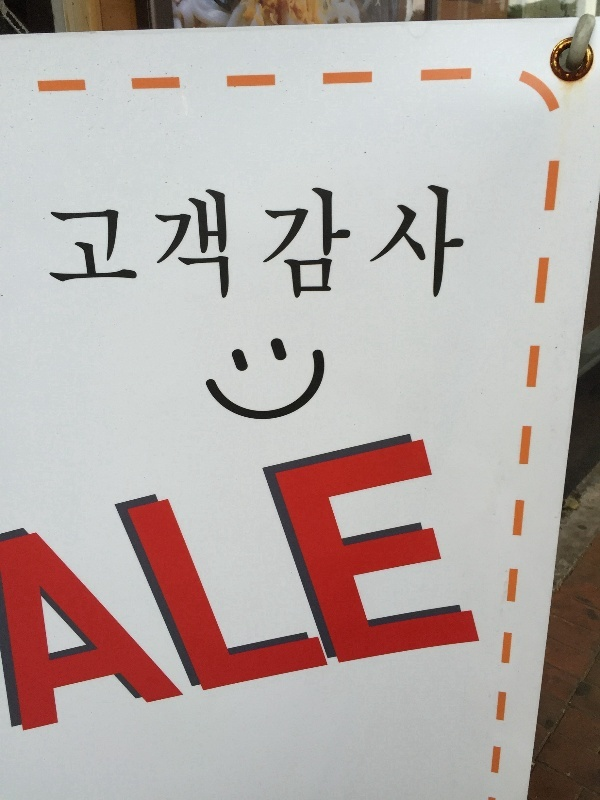text: (1, 427, 16, 739), (17, 427, 32, 739), (33, 427, 48, 739), (49, 427, 64, 739), (65, 427, 80, 739), (81, 427, 96, 739), (97, 427, 112, 739), (113, 427, 128, 739), (129, 427, 144, 739), (145, 427, 160, 739), (161, 427, 176, 739), (177, 427, 192, 739), (193, 427, 208, 739), (209, 427, 224, 739), (225, 427, 240, 739), (241, 427, 256, 739), (257, 427, 272, 739), (273, 427, 288, 739), (289, 427, 304, 739), (305, 427, 320, 739), (321, 427, 336, 739), (337, 427, 352, 739), (353, 427, 368, 739), (369, 427, 384, 739), (385, 427, 400, 739), (401, 427, 416, 739), (417, 427, 432, 739), (433, 427, 448, 739), (449, 427, 464, 739), (465, 427, 480, 739), (49, 183, 64, 303), (65, 183, 80, 303), (81, 183, 96, 303), (97, 183, 112, 303), (113, 183, 128, 303), (129, 183, 144, 303), (145, 183, 160, 303), (161, 183, 176, 303), (177, 183, 192, 303), (193, 183, 208, 303), (209, 183, 224, 303), (225, 183, 240, 303), (241, 183, 256, 303), (257, 183, 272, 303), (273, 183, 288, 303), (289, 183, 304, 303), (305, 183, 320, 303), (321, 183, 336, 303), (337, 183, 352, 303), (353, 183, 368, 303), (369, 183, 384, 303), (385, 183, 400, 303), (401, 183, 416, 303), (417, 183, 432, 303), (433, 183, 448, 303), (449, 183, 464, 303), (481, 427, 483, 739), (465, 183, 467, 303), (47, 183, 48, 303)
